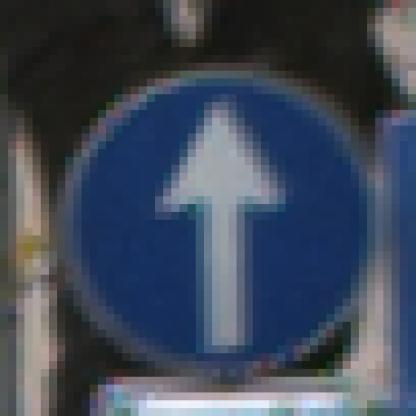AheadOnly: (42, 40, 368, 378)
